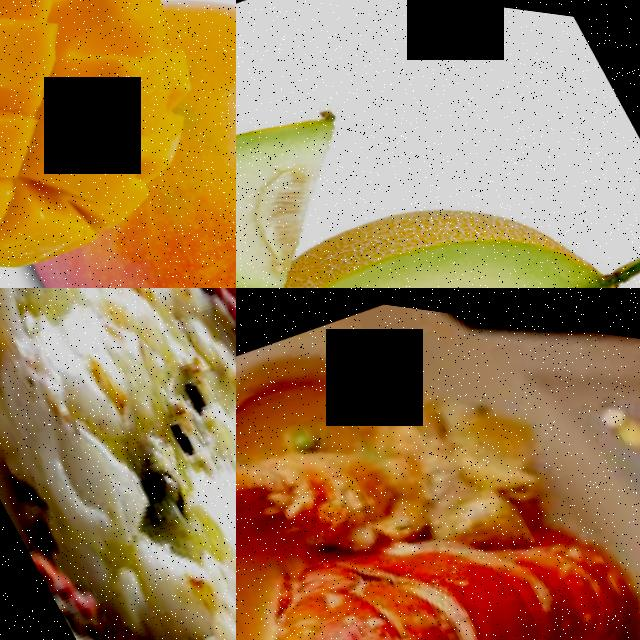lobster tails: (236, 422, 640, 640), (0, 288, 236, 539)
mango: (0, 53, 236, 288)
melon: (236, 132, 640, 288), (236, 69, 388, 288)
